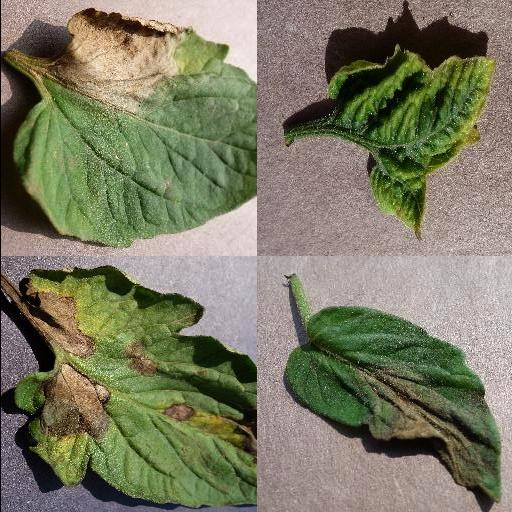Late Blight: (12, 265, 256, 512), (13, 8, 256, 250), (281, 307, 505, 505)
Yellow Leaf Curl Virus: (325, 44, 495, 240)
